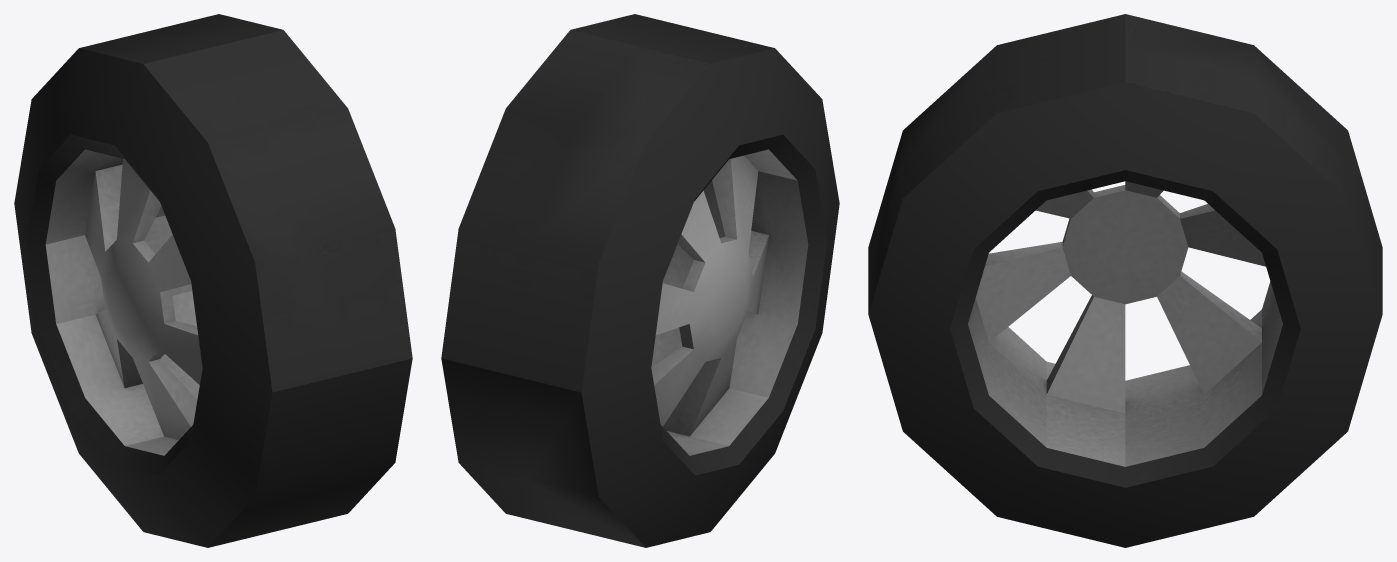
The model's file is pickupwheelRight.glb.
The picture shows the model from 3 angles, left to right: view 1: azimuth 30°, elevation 25°; view 2: azimuth 150°, elevation 25°; view 3: azimuth 270°, elevation 25°; orthographic projection.
Parts seen in each view (by area): view 1: Plane_002.002_Plane.000; view 2: Plane_002.002_Plane.000; view 3: Plane_002.002_Plane.000.
Boxes of the visible parts, x1,y1,x2,y2 form: Plane_002.002_Plane.000: (14,14,412,547); Plane_002.002_Plane.000: (441,14,839,547); Plane_002.002_Plane.000: (868,14,1382,547).
Size of the model in its own units: 0.1771 by 0.4012 by 0.4012.
Materials: 1 (1 with a texture image).
